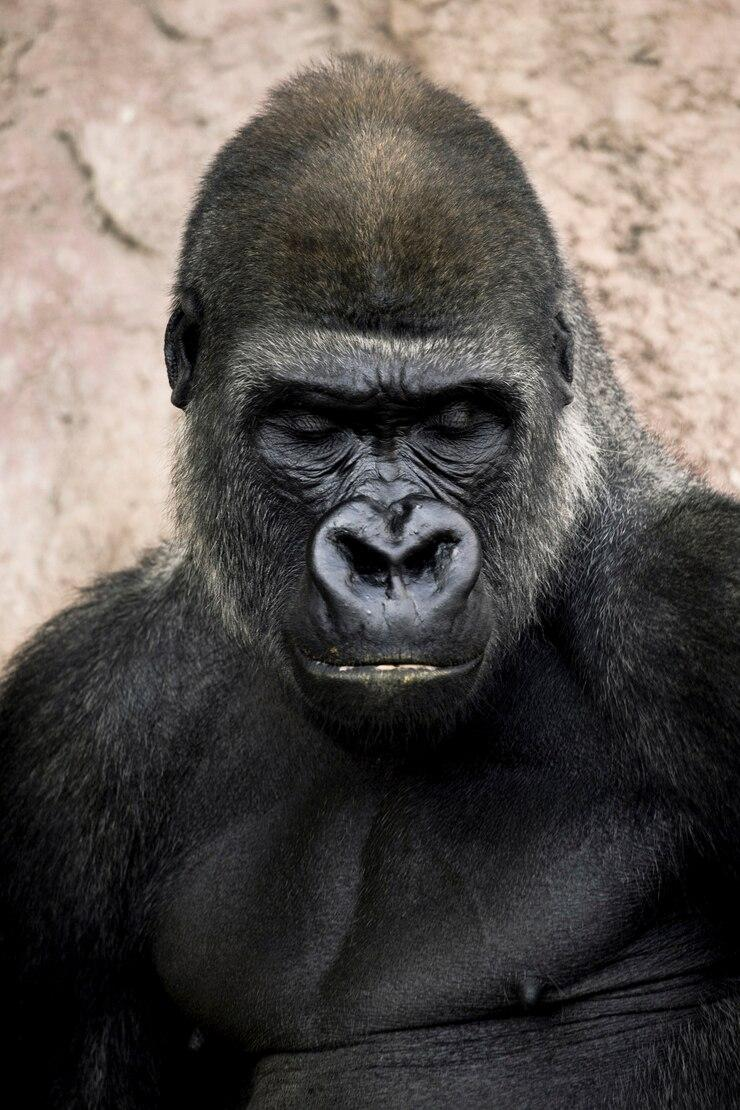gorille_Autres: (17, 0, 740, 1110)
